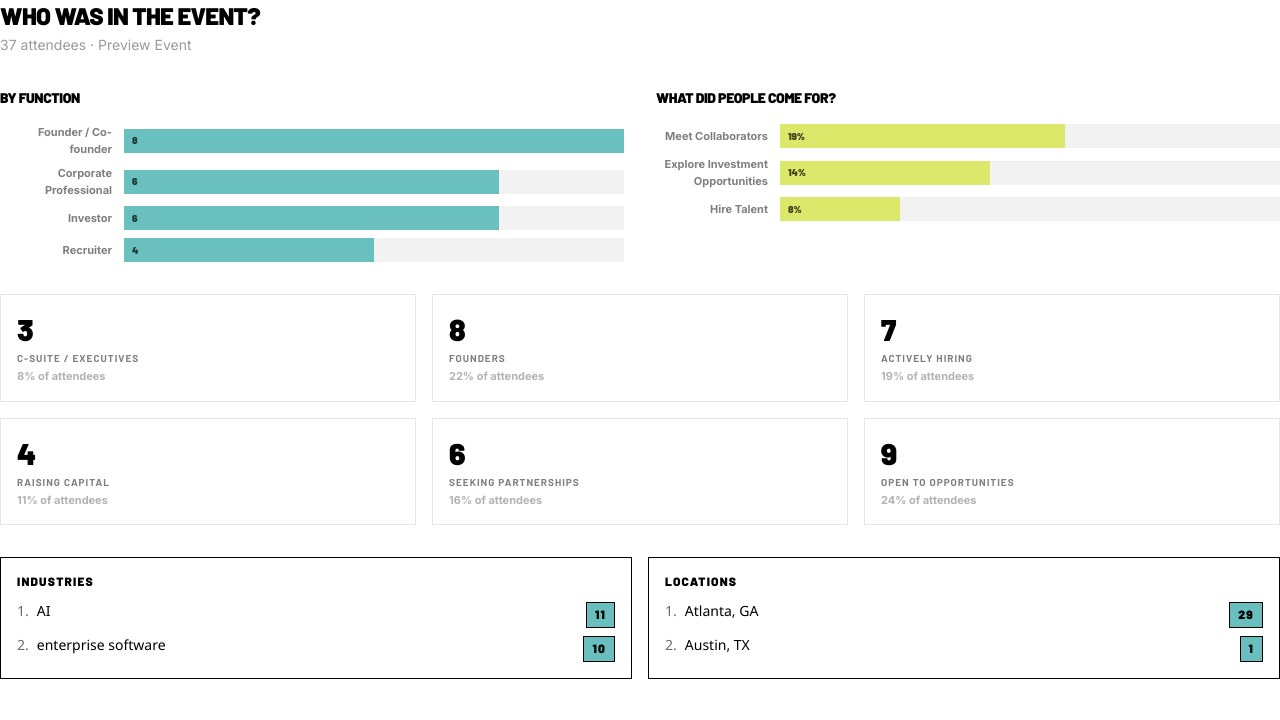
Test case: AudienceTab — segments › opens a definition popover for a segment
Click the button "8 Founders 22% of attendees": x=477, y=358 [432,294,848,402]
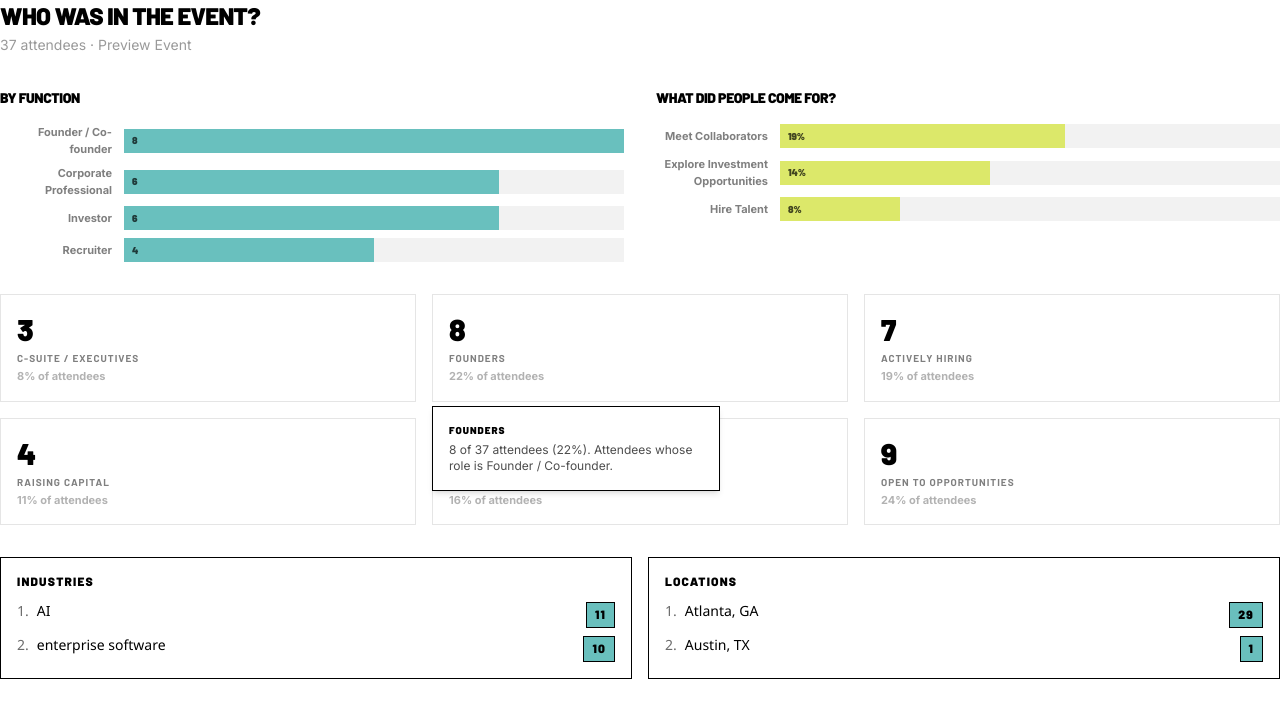
Result: the text "whose role is Founder / Co-founder" is shown at [449,442,692,473]
Result: the text "8 of 37" is shown at [449,442,703,474]
